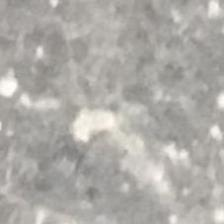Non_Crack: (13, 18, 216, 179)
